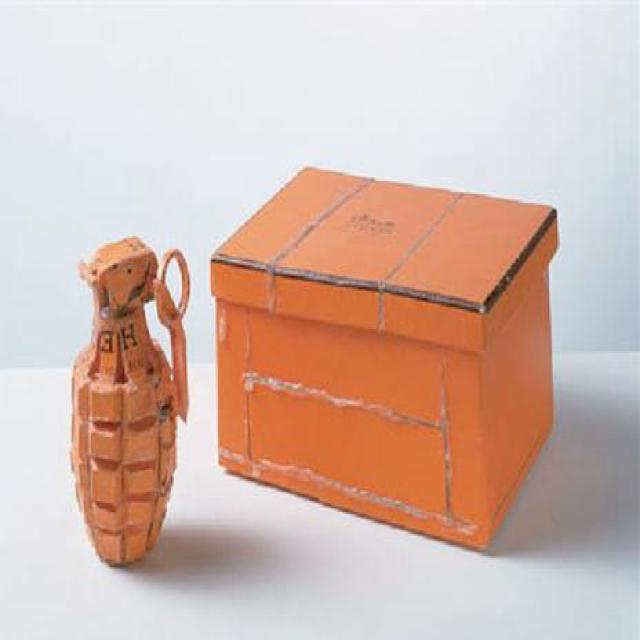grenade: (70, 237, 190, 568)
